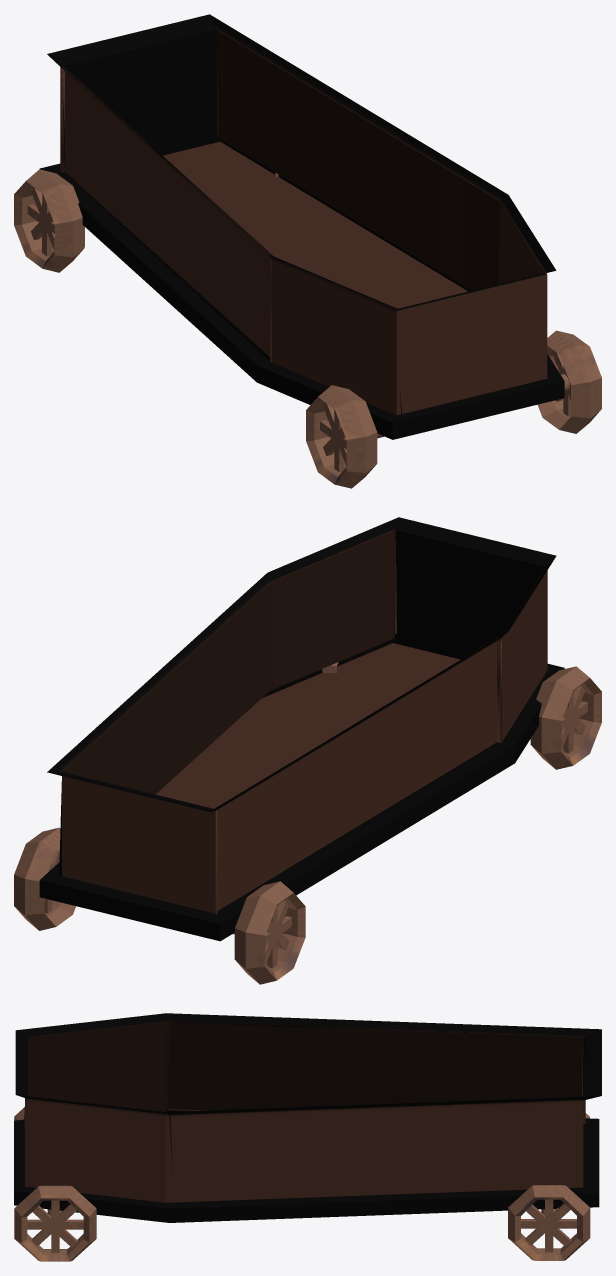
Rendered from ataud.fbx.
The picture shows the model from 3 angles, top to bottom: view 1: azimuth 30°, elevation 25°; view 2: azimuth 150°, elevation 25°; view 3: azimuth 270°, elevation 25°; orthographic projection. The views are drawn at different scales.
Visible parts, largest first — view 1: Rueda.002; view 2: Rueda.002; view 3: Rueda.002.
Boxes of the visible parts, bbox=[...] form: Rueda.002: bbox=[14, 14, 601, 488]; Rueda.002: bbox=[14, 517, 601, 984]; Rueda.002: bbox=[14, 1013, 601, 1261].
Size of the model in its own units: 2.58 by 1.73 by 6.06.
